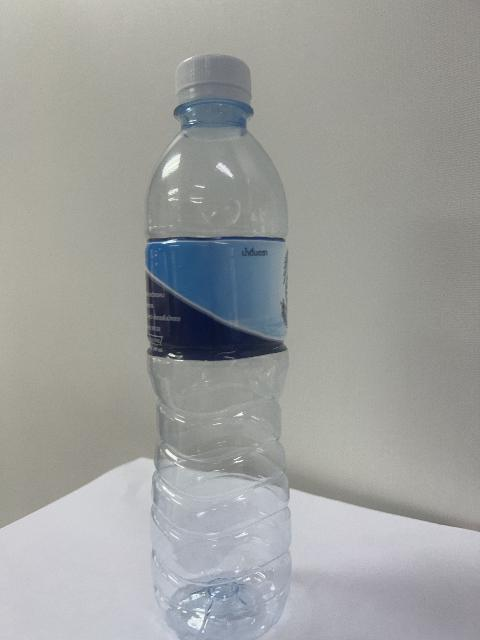bottle: (146, 56, 290, 639)
